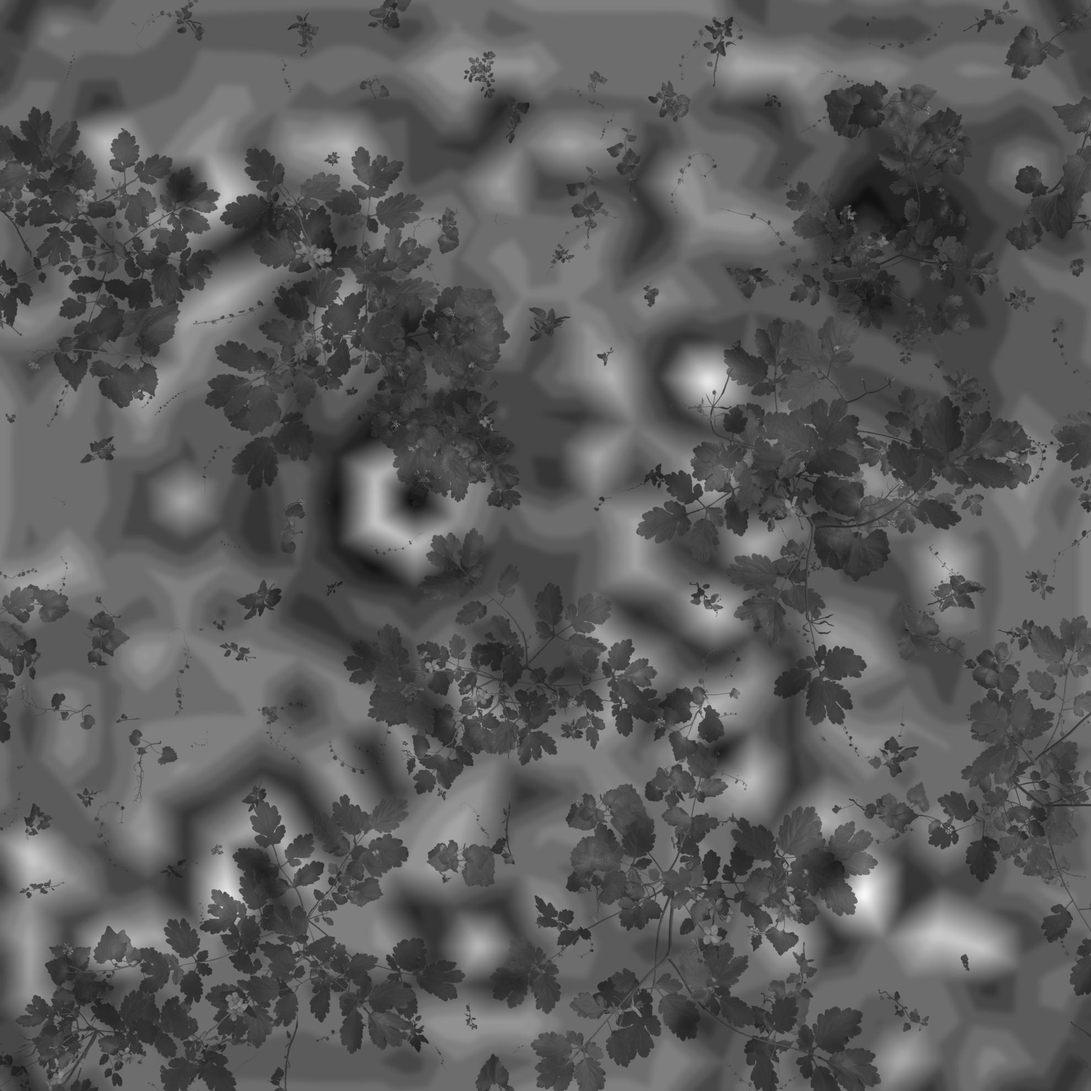landmine: (333, 433, 491, 580)
